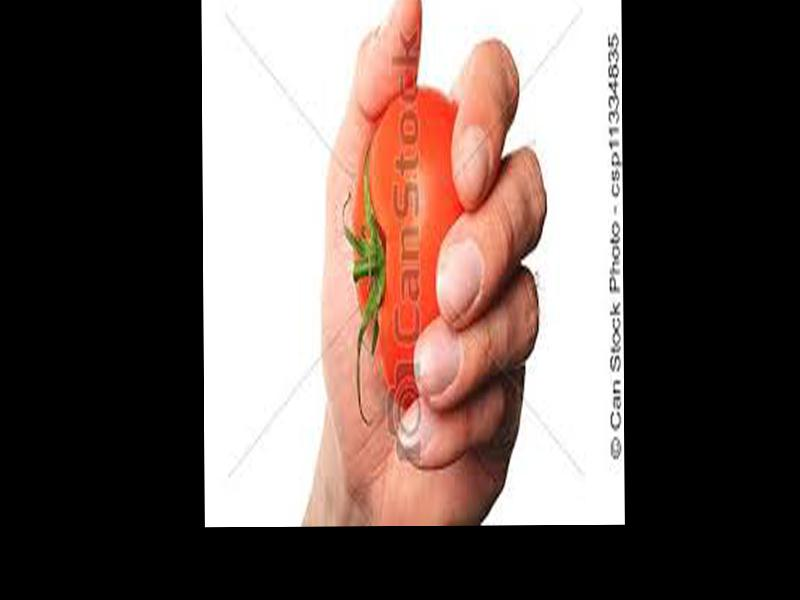Tomato: (354, 87, 462, 407)
